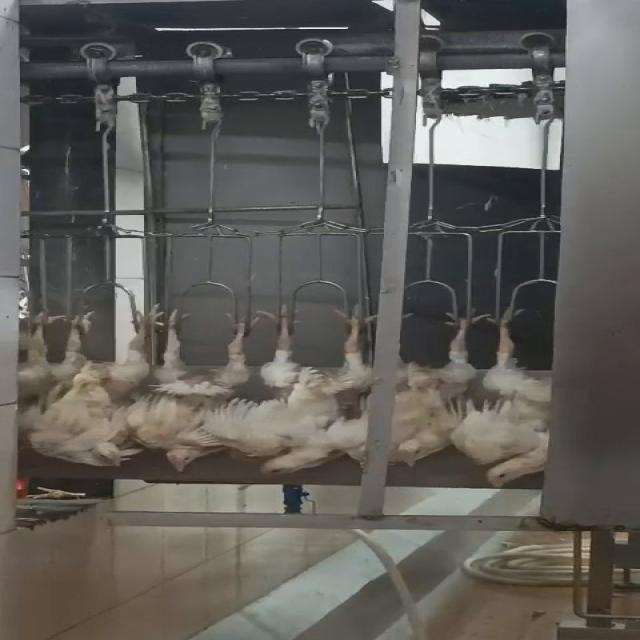chicken: (244, 302, 384, 478), (16, 308, 157, 478), (126, 302, 256, 476), (455, 303, 568, 488), (380, 310, 486, 471)
